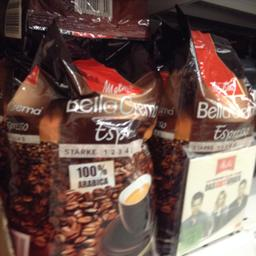coffee: (4, 23, 158, 255), (156, 24, 254, 255)
